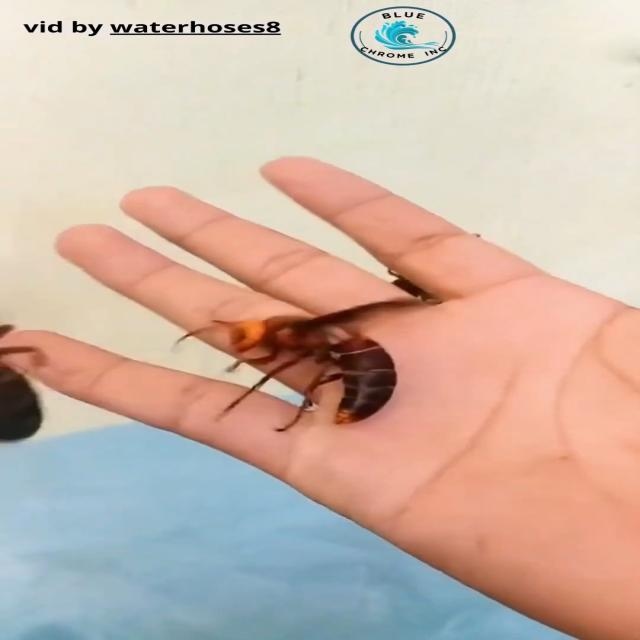Hornets: (168, 296, 436, 436)
